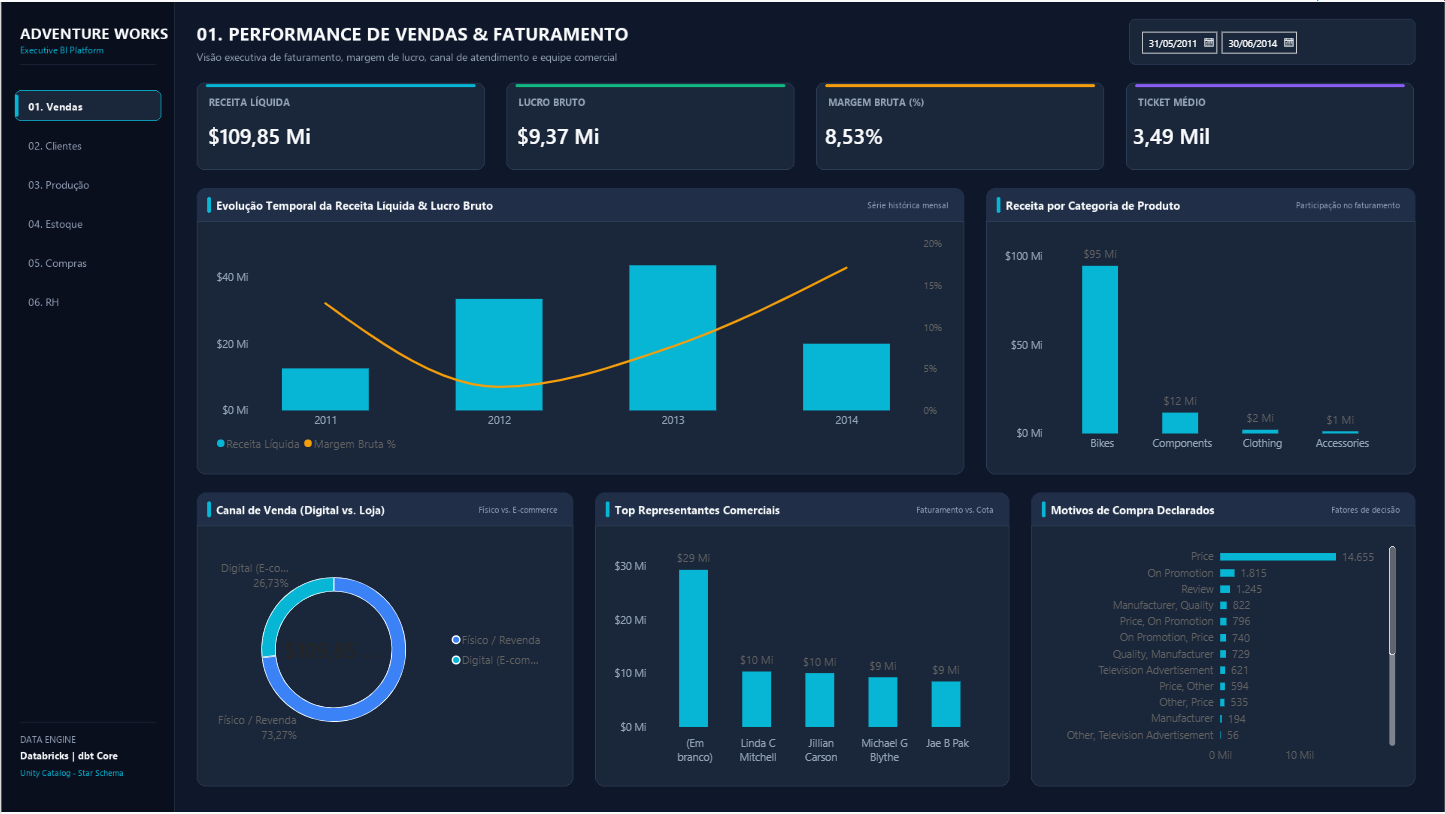

The page's visual inventory and layout, read from the dashboard file:
{"tool":"powerbi","page":{"name":"Vendas","canvas":[1920,1080],"ordinal":0},"visuals":[{"type":"slicer","fields":{"Values":["dates.calendar_date"]},"box":[1510,35,360,45],"z":0},{"type":"cardVisual","fields":{"Data":["d_Medidas.Receita Líquida"]},"box":[260,140,380,75],"z":1000},{"type":"cardVisual","fields":{"Data":["d_Medidas.Lucro Bruto"]},"box":[670,140,380,75],"z":2000},{"type":"cardVisual","fields":{"Data":["d_Medidas.Margem Bruta %"]},"box":[1080,140,380,75],"z":3000},{"type":"cardVisual","fields":{"Data":["d_Medidas.Ticket Médio"]},"box":[1490,140,380,75],"z":4000},{"type":"lineClusteredColumnComboChart","fields":{"Category":["dates.calendar_date.Variation.Hierarquia de datas.Ano","dates.calendar_date.Variation.Hierarquia de datas.Mês"],"Y":["d_Medidas.Receita Líquida"],"Y2":["d_Medidas.Margem Bruta %"]},"box":[270,298,1000,320],"z":5000},{"type":"clusteredColumnChart","fields":{"Category":["products.category_name"],"Y":["d_Medidas.Receita Líquida"]},"box":[1320,298,550,320],"z":6000},{"type":"donutChart","fields":{"Category":["sales.sales_channel"],"Y":["d_Medidas.Receita Líquida"]},"box":[270,702,480,320],"z":7000},{"type":"clusteredColumnChart","fields":{"Category":["sales_reps.sales_person_name"],"Y":["d_Medidas.Receita Líquida"]},"box":[800,702,530,330],"z":8000},{"type":"clusteredBarChart","fields":{"Category":["sales.sales_reasons_list"],"Y":["d_Medidas.Total Pedidos"]},"box":[1380,702,490,330],"z":9000}]}

Visuals, with their boxes on the page's 1920x1080 design canvas (x1, y1, x2, y2). These are canvas units, not pixel positions in the 1445x814 screenshot, which may show the page scaled, cropped or inside an application window:
slicer - dates.calendar_date: BBox(1510, 35, 1870, 80)
cardVisual - d_Medidas.Receita Líquida: BBox(260, 140, 640, 215)
cardVisual - d_Medidas.Lucro Bruto: BBox(670, 140, 1050, 215)
cardVisual - d_Medidas.Margem Bruta %: BBox(1080, 140, 1460, 215)
cardVisual - d_Medidas.Ticket Médio: BBox(1490, 140, 1870, 215)
lineClusteredColumnComboChart - dates.calendar_date.Variation.Hierarquia de datas.Ano x dates.calendar_date.Variation.Hierarquia de datas.Mês: BBox(270, 298, 1270, 618)
clusteredColumnChart - products.category_name x d_Medidas.Receita Líquida: BBox(1320, 298, 1870, 618)
donutChart - sales.sales_channel x d_Medidas.Receita Líquida: BBox(270, 702, 750, 1022)
clusteredColumnChart - sales_reps.sales_person_name x d_Medidas.Receita Líquida: BBox(800, 702, 1330, 1032)
clusteredBarChart - sales.sales_reasons_list x d_Medidas.Total Pedidos: BBox(1380, 702, 1870, 1032)
